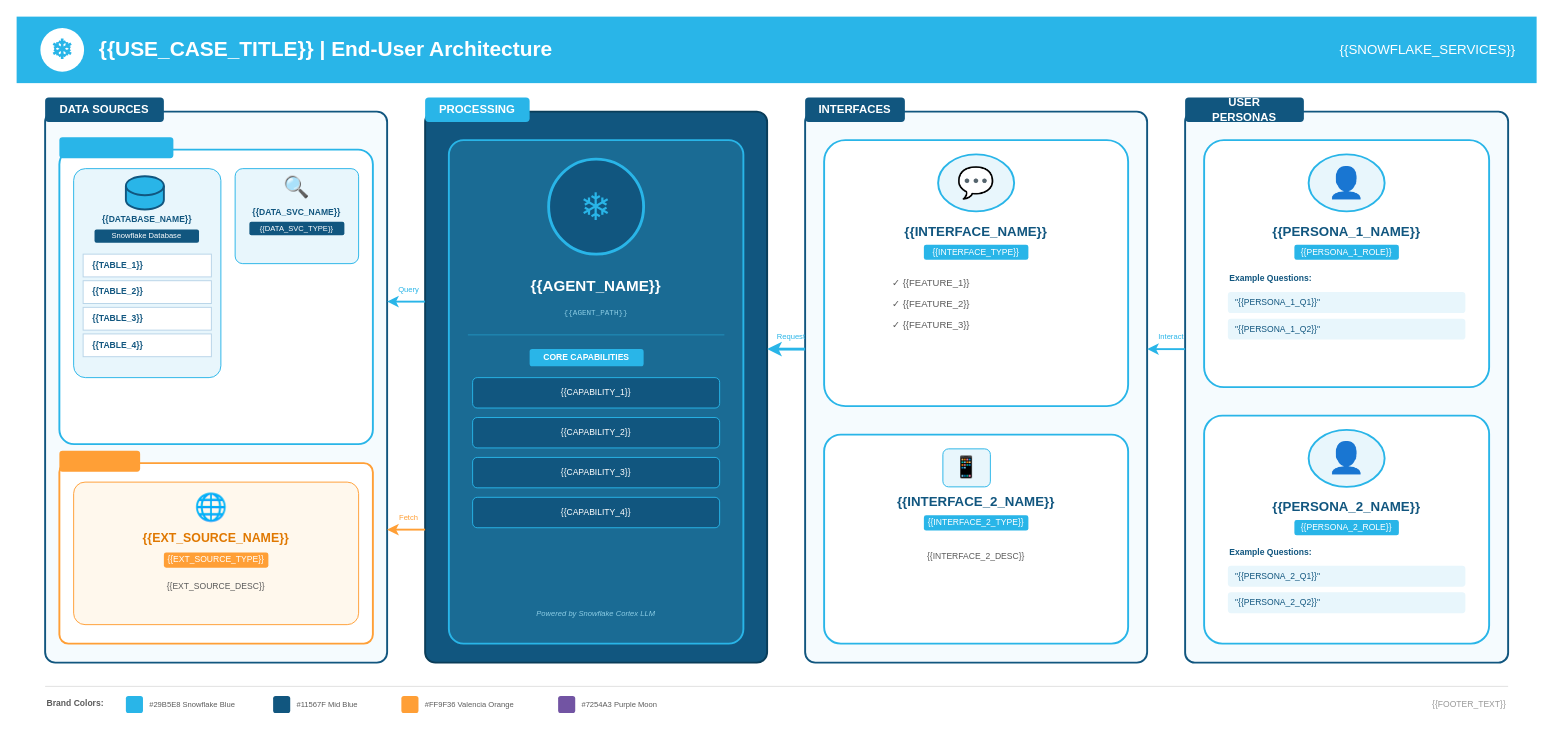
The diagram is 1552 pixels wide and 729 high, and some of its shapes have lost their labels. The shapes that lost their labels are listed below. From the top down, each one's centre as x and y in pixels, then its label:
the point at 116,147: SNOWFLAKE DATA
the point at 99,460: EXTERNAL
